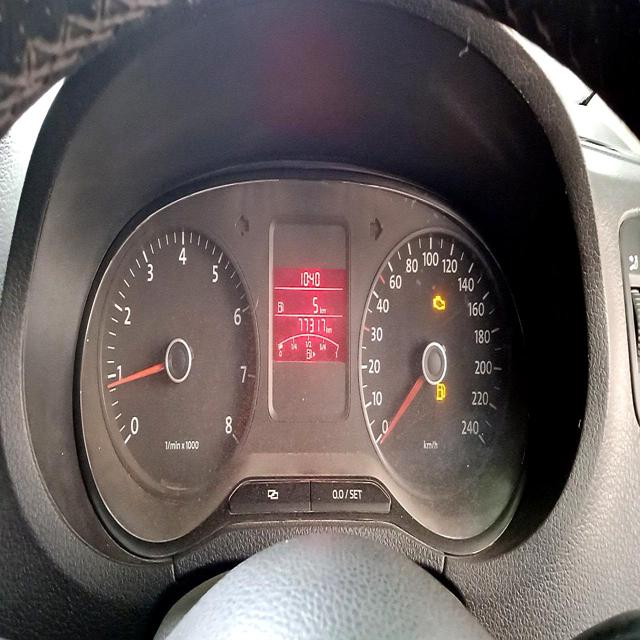odometer: (297, 315, 327, 333)
